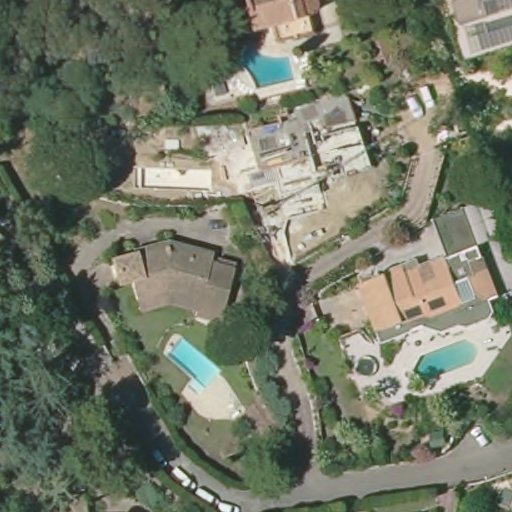pool: (168, 336, 223, 389), (412, 338, 481, 379), (238, 49, 295, 89)
